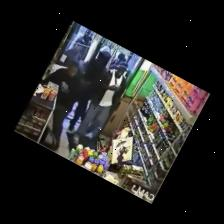person: (73, 62, 126, 144), (40, 61, 83, 150), (68, 86, 92, 130), (75, 29, 90, 60)
